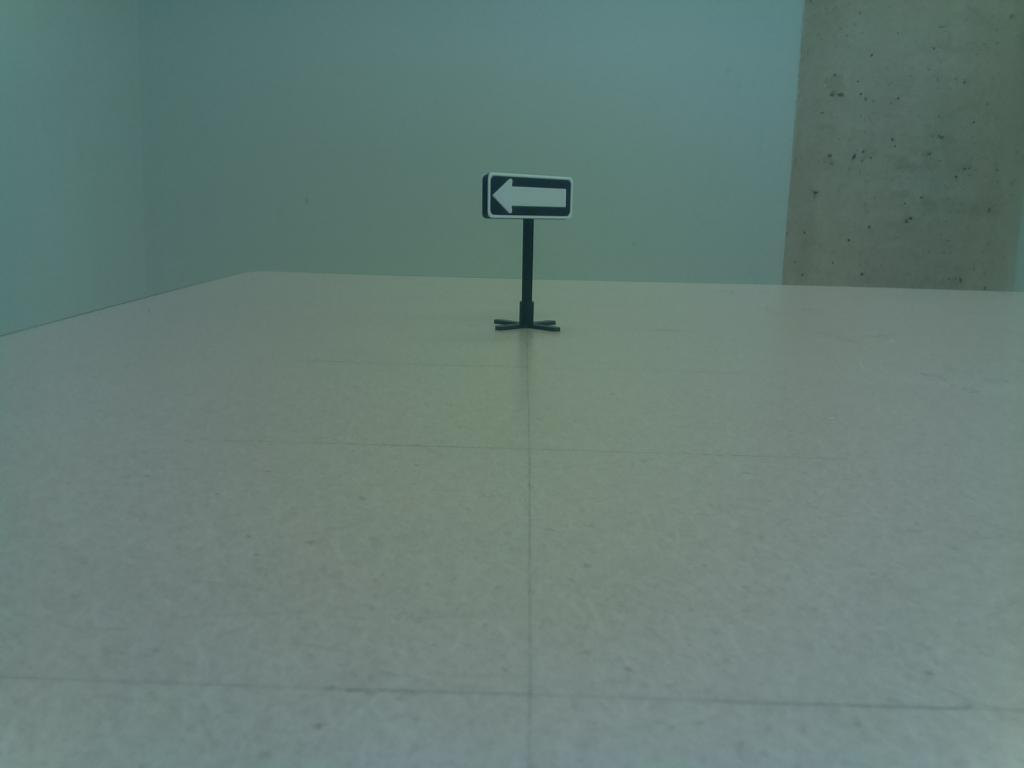sign_oneway_left: (477, 167, 580, 226)
